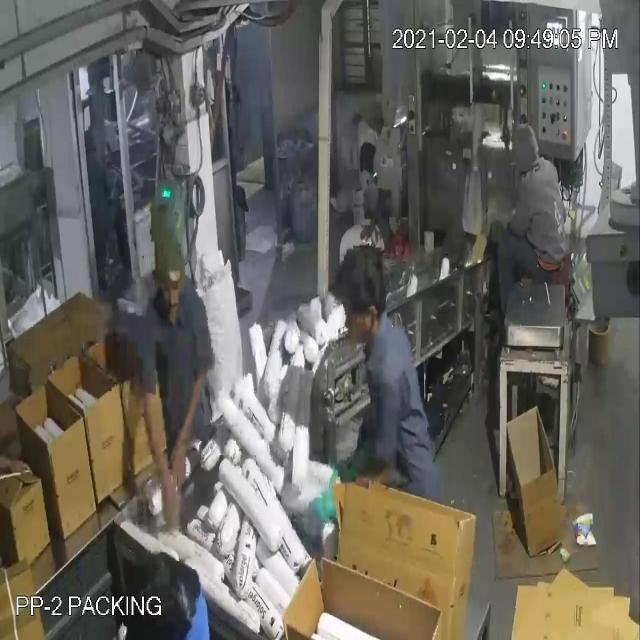No_Gloves: (48, 94, 340, 481)
